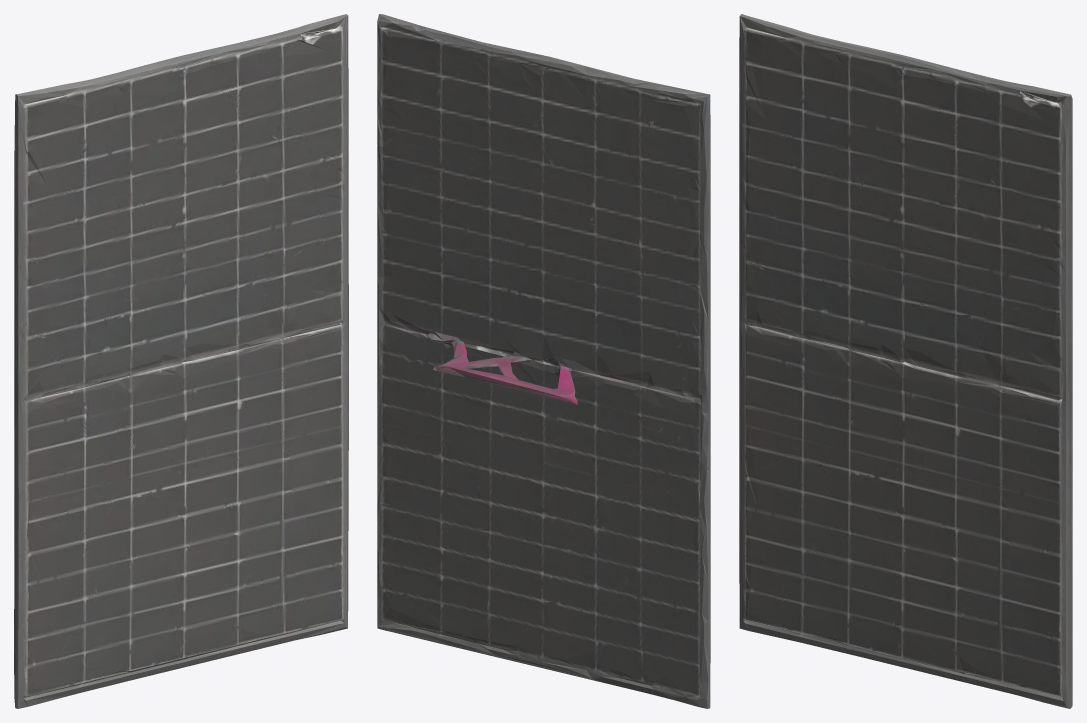
Rendered from emcar-jinko-475-phone.glb.
3 views of the same model, side by side, from view 1: azimuth 30°, elevation 25°; view 2: azimuth 150°, elevation 25°; view 3: azimuth 330°, elevation 25° (orthographic).
Visible parts, largest first — view 1: demo_textured.obj; view 2: demo_textured.obj; view 3: demo_textured.obj.
Boxes of the visible parts, box(x1,y1,x2,y2) form: demo_textured.obj: box(14, 14, 348, 708); demo_textured.obj: box(377, 14, 710, 708); demo_textured.obj: box(739, 14, 1072, 708).
Bounding box in the file's own units: 1.13 × 1.98 × 0.2172.
1 material, 1 textured.
